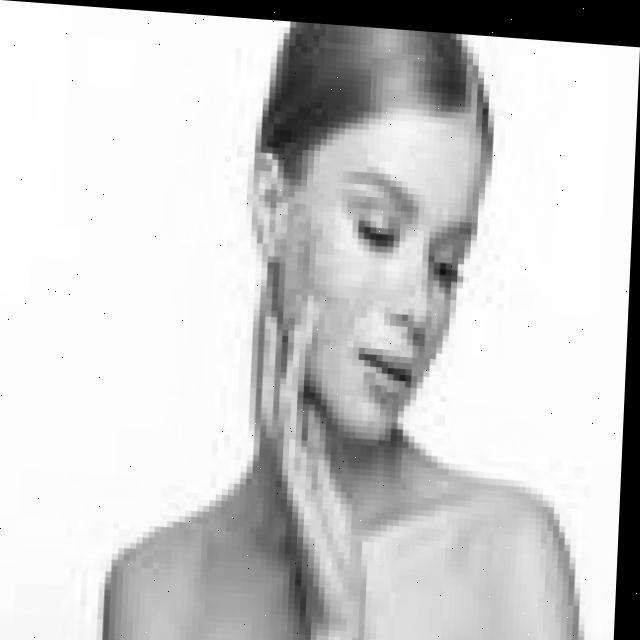Melasma: (280, 208, 356, 298)
